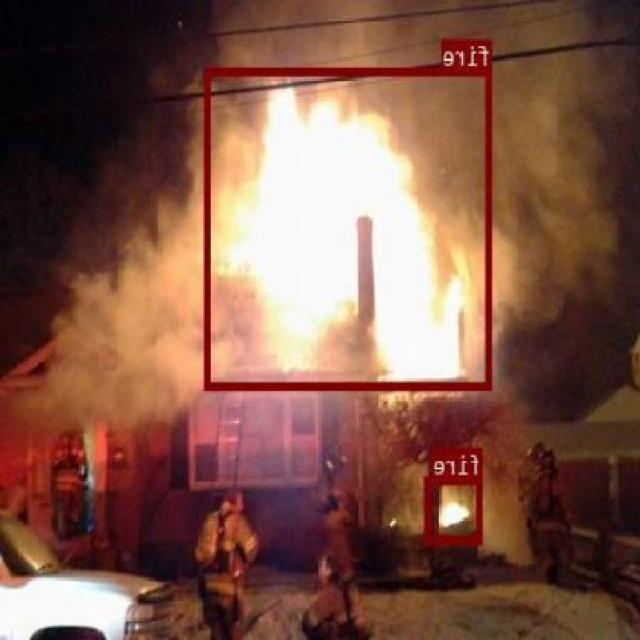Fire: (202, 95, 466, 397)
Smoke: (13, 165, 266, 455), (376, 84, 616, 328), (217, 0, 640, 122)
